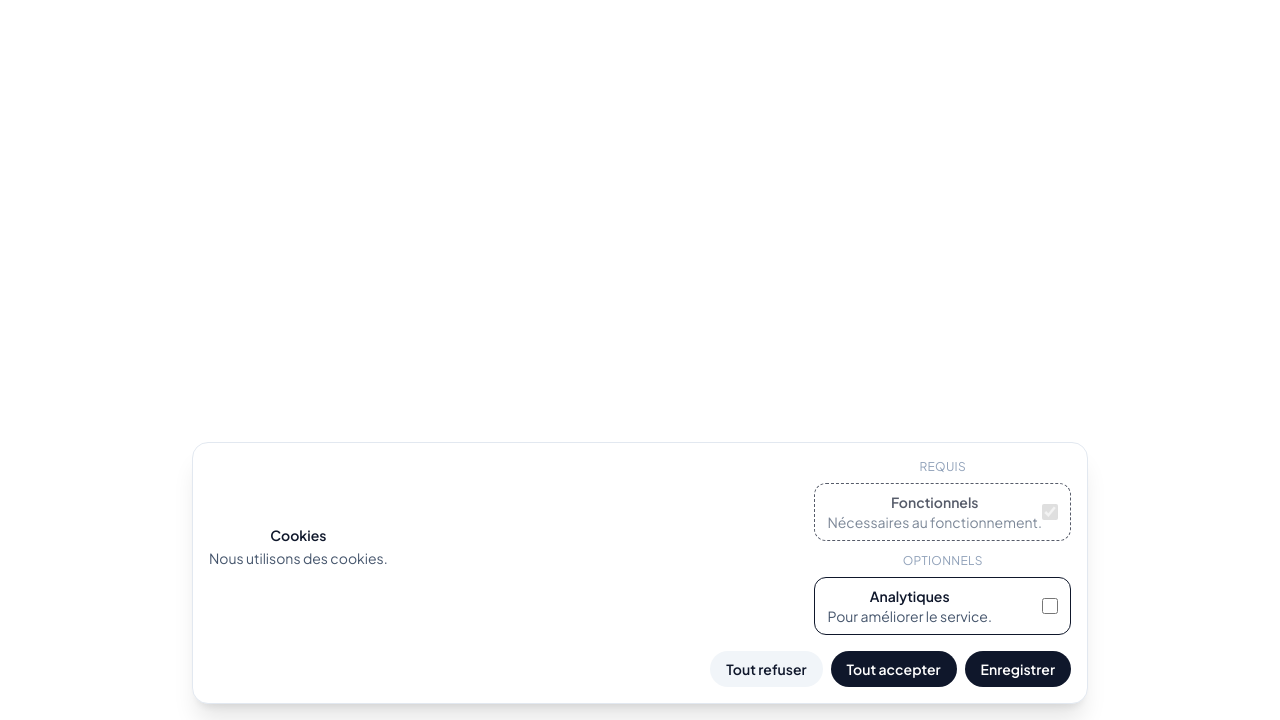
Scenario: CookieBanner › ferme la bannière après 'Tout refuser'
Click the button "Tout refuser" at [766, 669], box x1=710 y1=651 x2=822 y2=687
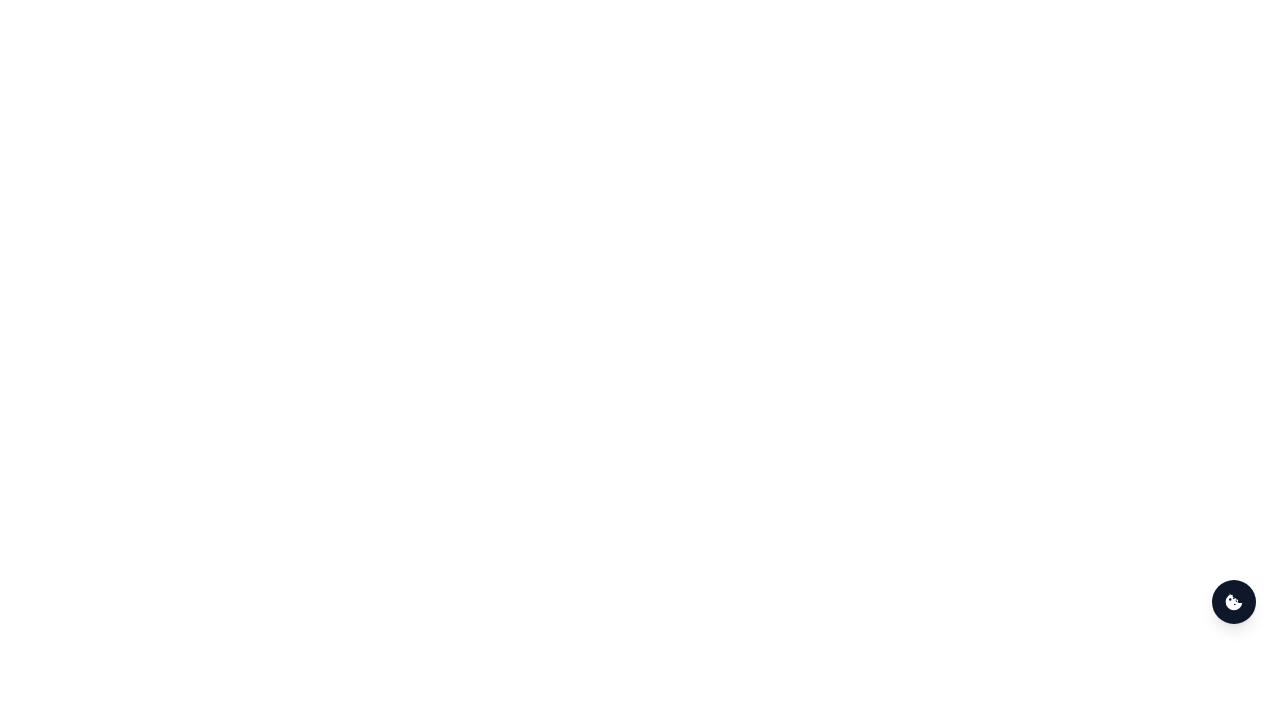
Result: the dialog is gone
